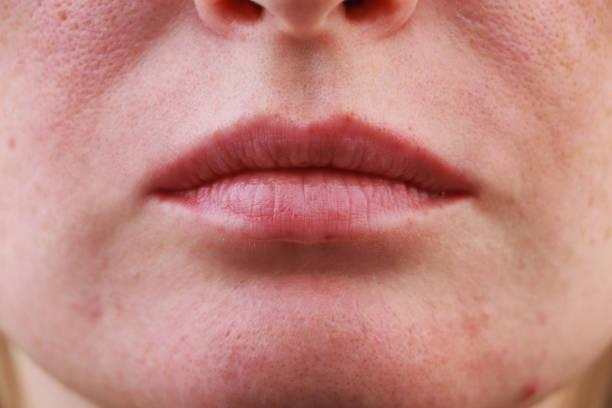Dry-Skin: (27, 19, 153, 286), (199, 263, 406, 406)
